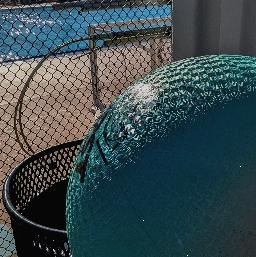algae: (81, 62, 256, 257)
